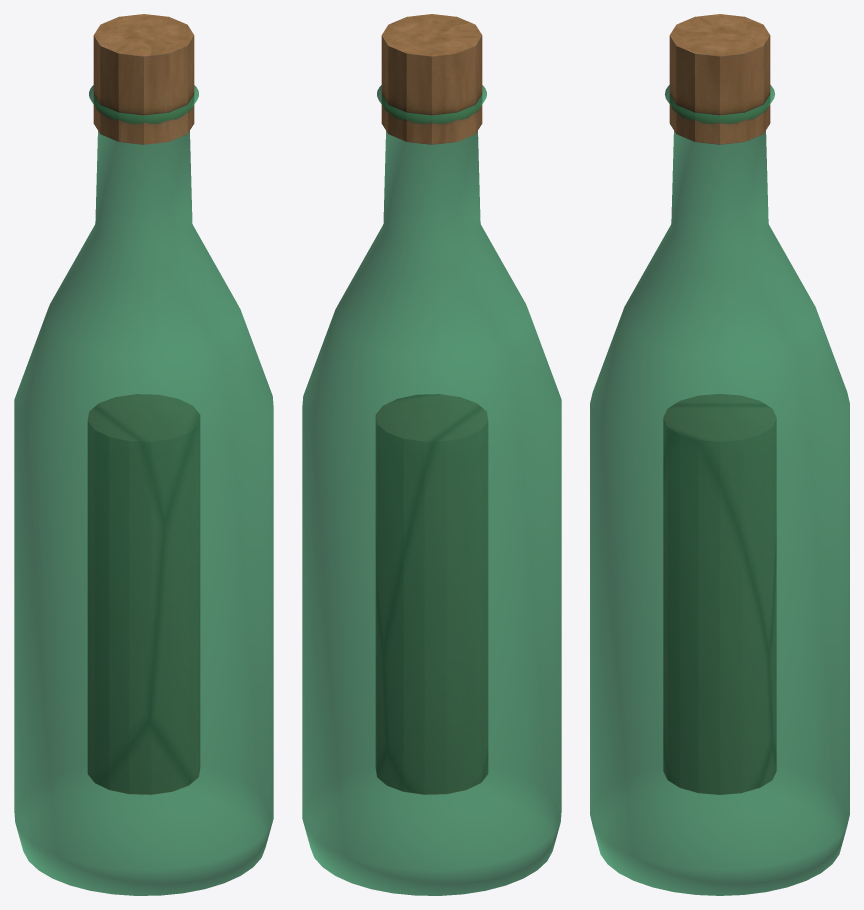
The model's file is bottle.glb.
The picture shows the model from 3 angles, left to right: view 1: azimuth 30°, elevation 25°; view 2: azimuth 150°, elevation 25°; view 3: azimuth 270°, elevation 25°; orthographic projection.
Visible parts, largest first — view 1: GlassBottle, Message; view 2: GlassBottle, Message; view 3: GlassBottle, Message.
Part boxes in pixels (<box>): GlassBottle: <box>14,85,273,895</box>; Message: <box>88,14,199,794</box>; GlassBottle: <box>302,85,561,895</box>; Message: <box>376,14,487,794</box>; GlassBottle: <box>590,85,849,895</box>; Message: <box>663,14,776,794</box>.
Bounding box in the file's own units: 0.16 × 0.55 × 0.16.
Materials: 2 (1 with a texture image).
